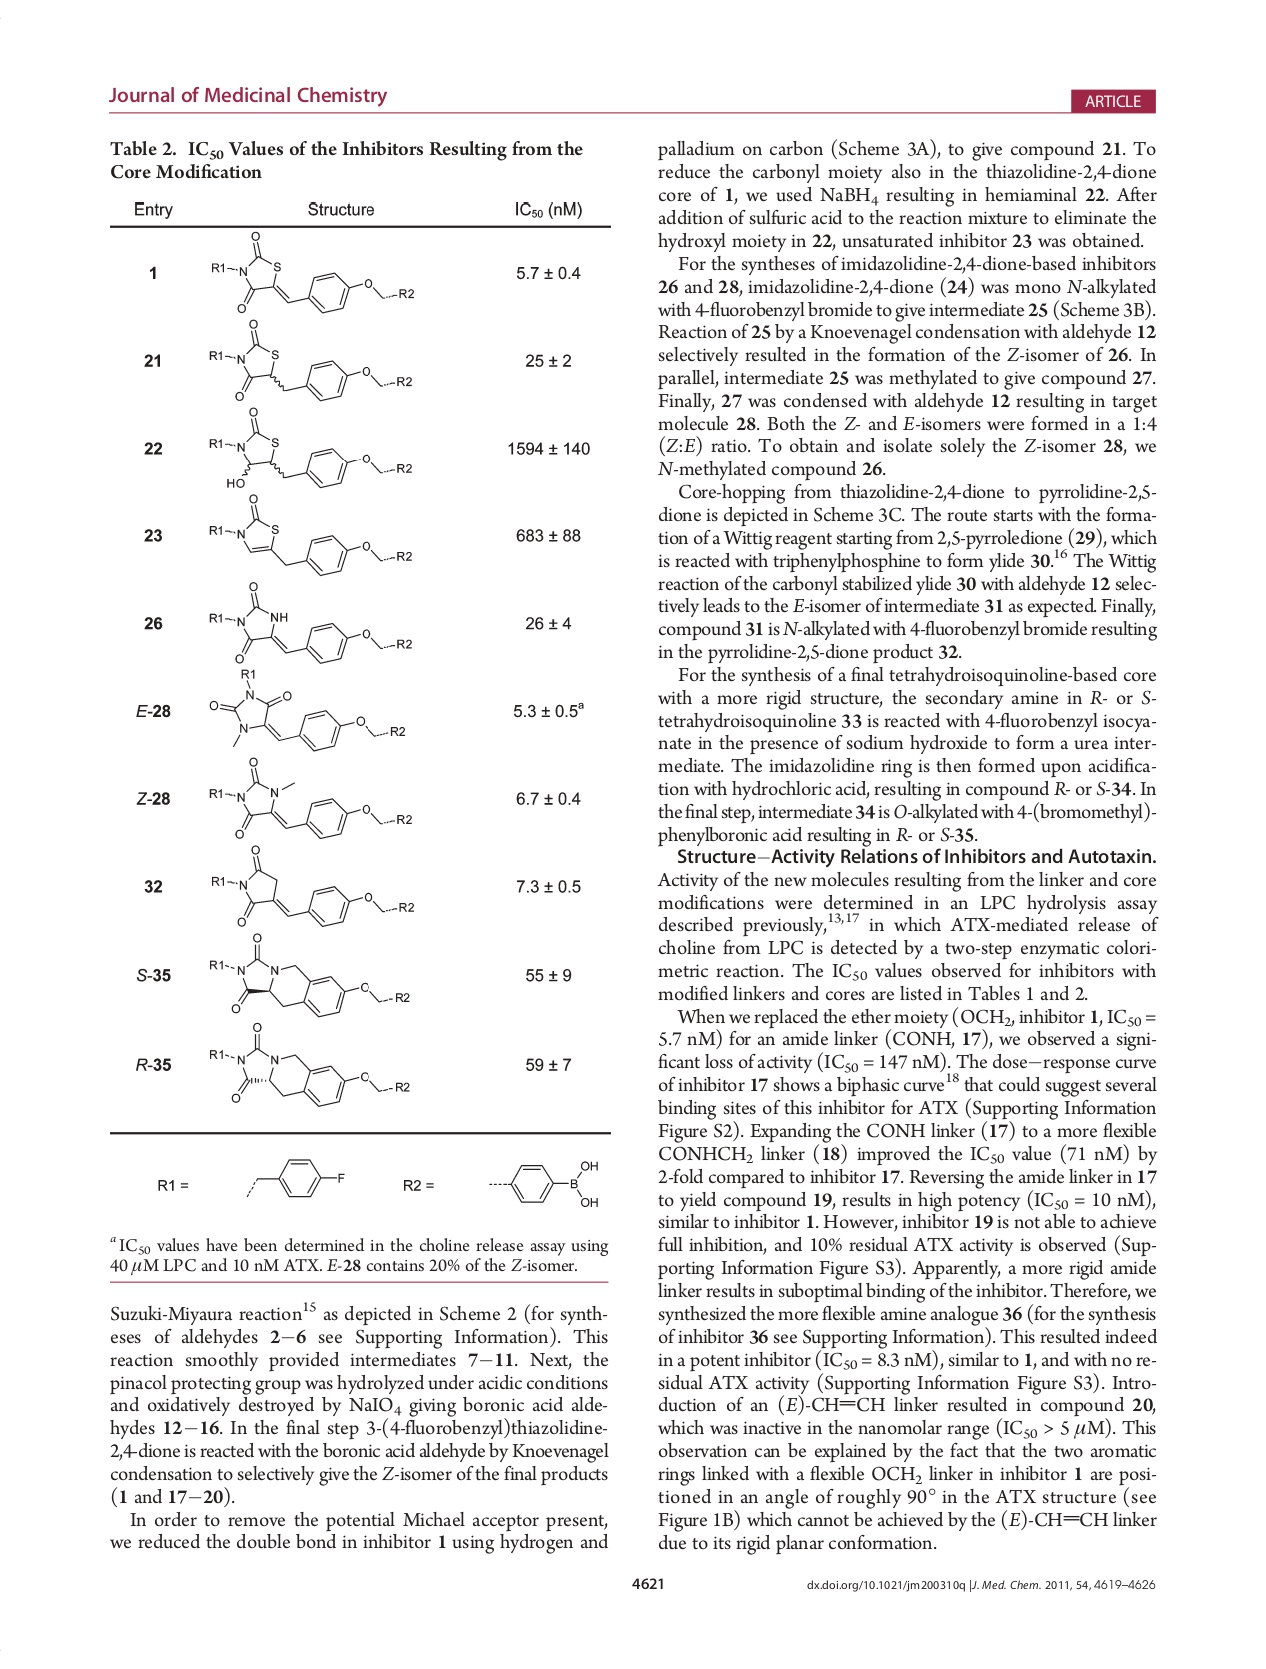exist_molecular: (207, 930, 411, 1020), (203, 755, 416, 840), (206, 492, 414, 578), (206, 580, 414, 666), (207, 842, 415, 928), (206, 666, 410, 754), (207, 1021, 414, 1108), (210, 231, 418, 317), (207, 318, 415, 403), (206, 406, 414, 489), (485, 1156, 602, 1216), (239, 1150, 350, 1206)
